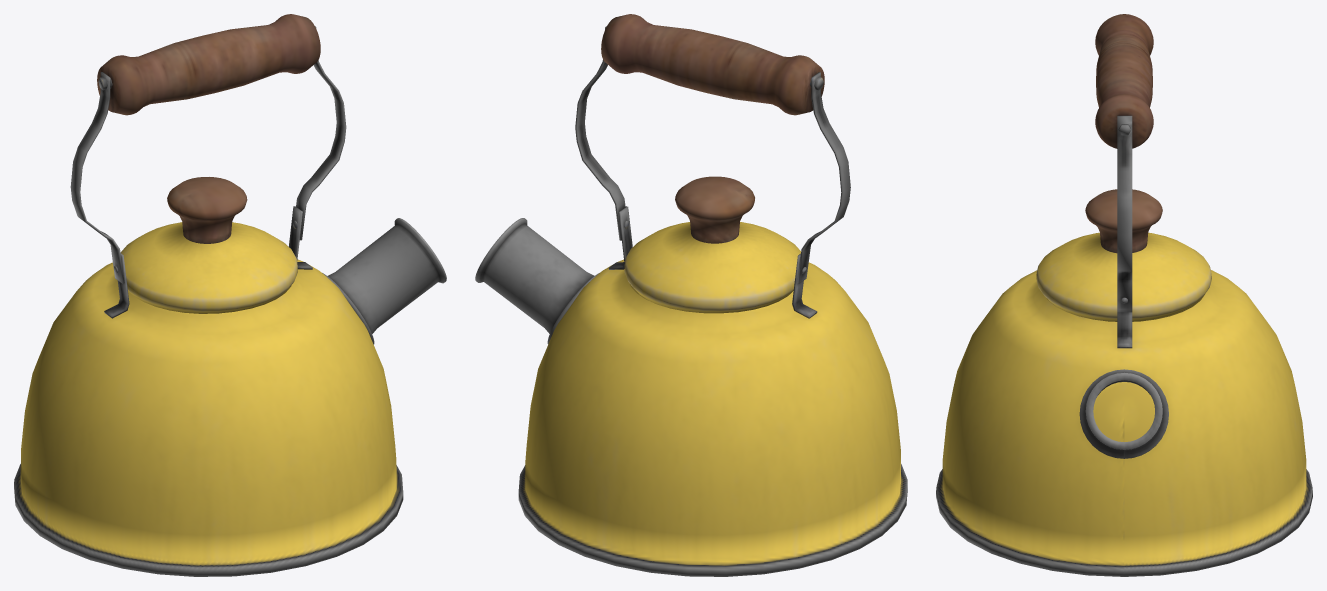
File: TEA.glb
The picture shows the model from 3 angles, left to right: view 1: azimuth 30°, elevation 25°; view 2: azimuth 150°, elevation 25°; view 3: azimuth 270°, elevation 25°; orthographic projection. The views are drawn at different scales.
Parts seen in each view (by area): view 1: TEA; view 2: TEA; view 3: TEA.
Boxes of the visible parts, x1,y1,x2,y2 form: TEA: [14, 14, 446, 576]; TEA: [475, 14, 907, 576]; TEA: [936, 14, 1312, 576].
Size of the model in its own units: 4.32 by 4.75 by 3.67.
Materials: 1 (1 with a texture image).
